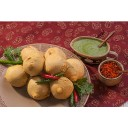bonda: (49, 77, 73, 98), (47, 53, 68, 75), (5, 66, 27, 86), (67, 57, 86, 80), (28, 77, 47, 99), (24, 56, 44, 74)
